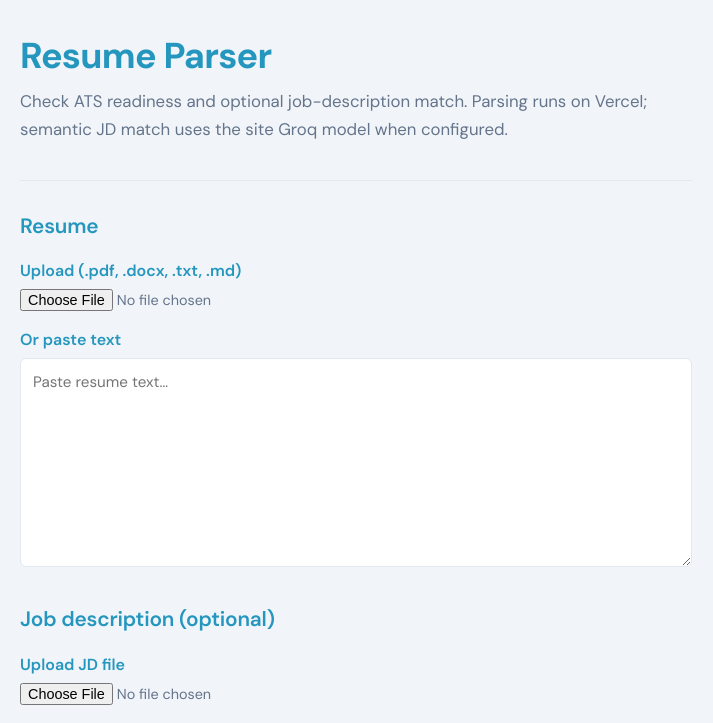
Test: ResumeParser page › surfaces API errors
This screenshot has width=713, height=723.
Type "resume body" into the text box labelled "Or paste text" at [356, 463], box [20,358,692,567]
(page scrolled)
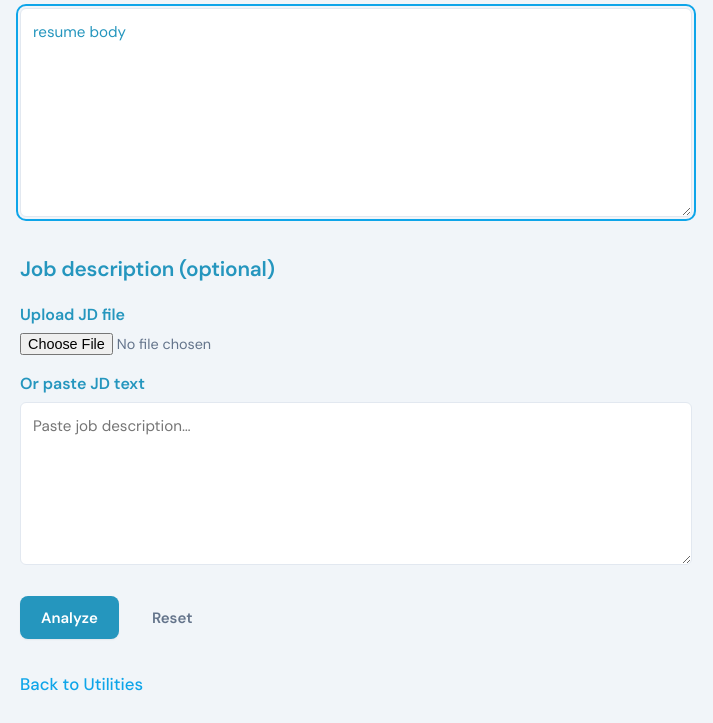
Click the button "Analyze" at [69, 618], box [20,596,119,639]
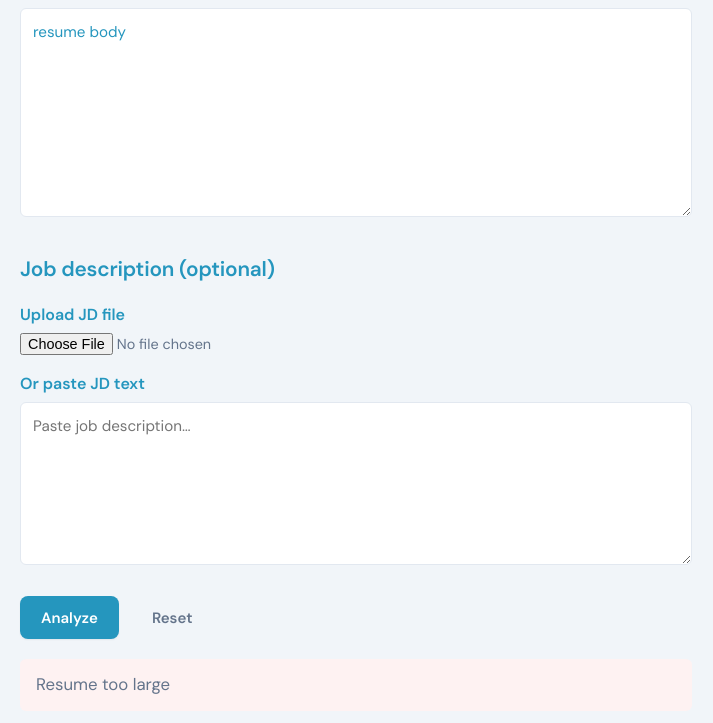
Expected: the message reads "Resume too large", [36,673,170,695]
